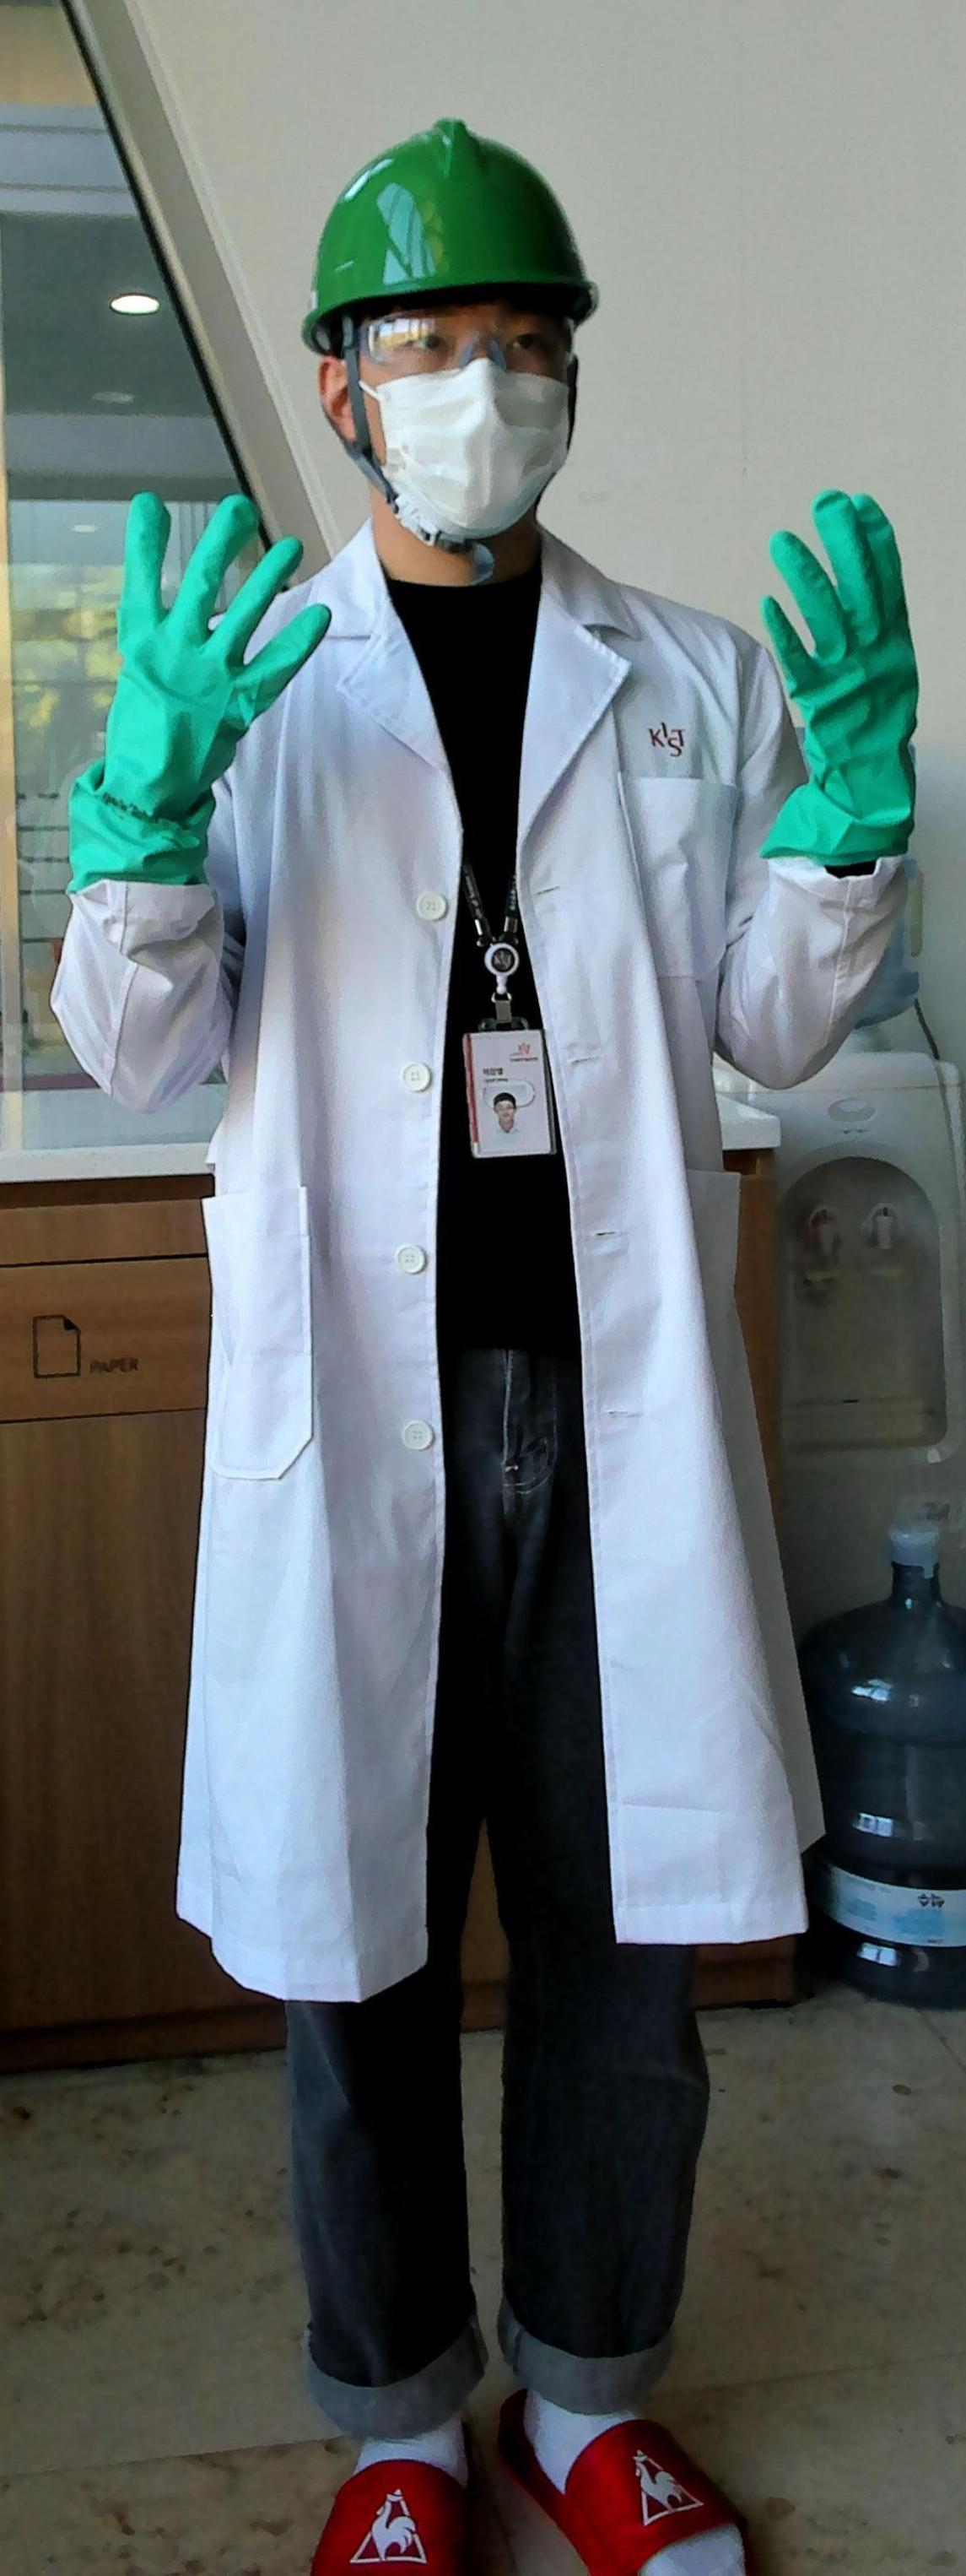lab_coat: (205, 708, 752, 2008)
